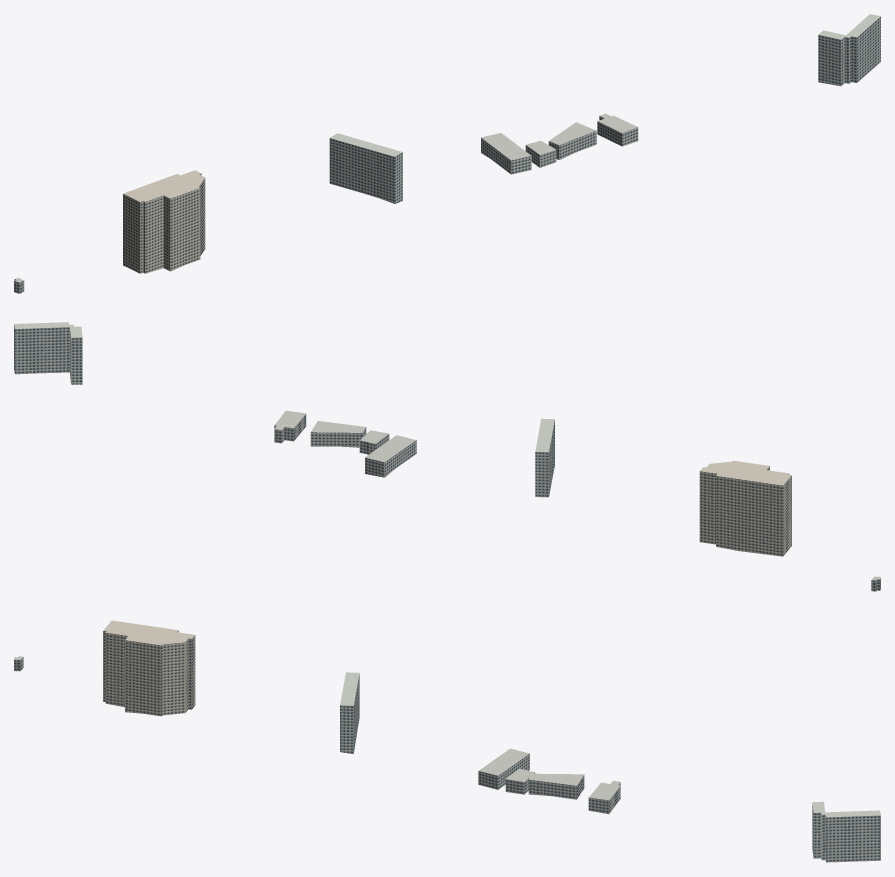
The model's file is city_-1_5.glb.
3 views of the same model, one above another, from view 1: azimuth 30°, elevation 25°; view 2: azimuth 150°, elevation 25°; view 3: azimuth 330°, elevation 25° (orthographic).
Size of the model in its own units: 954 by 80.84 by 81.77.
Materials: 3 (3 with a texture image).
